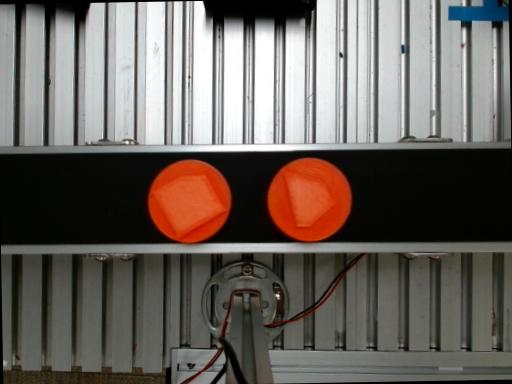Not_Square: (151, 175, 226, 240), (281, 169, 337, 228)
Orange_Waper: (148, 159, 234, 243), (267, 158, 352, 241)
